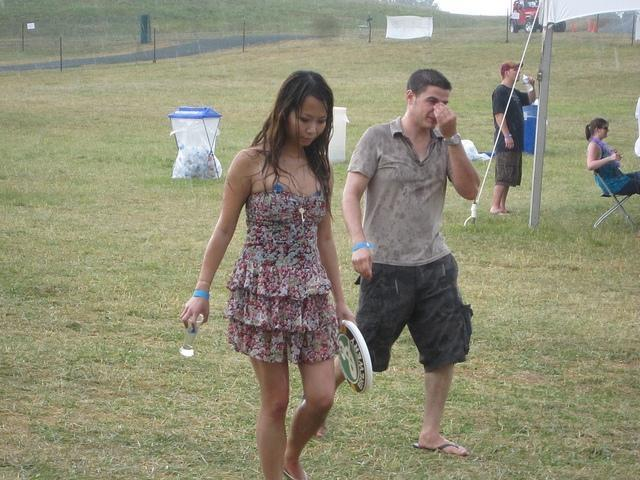car: (509, 0, 541, 34)
